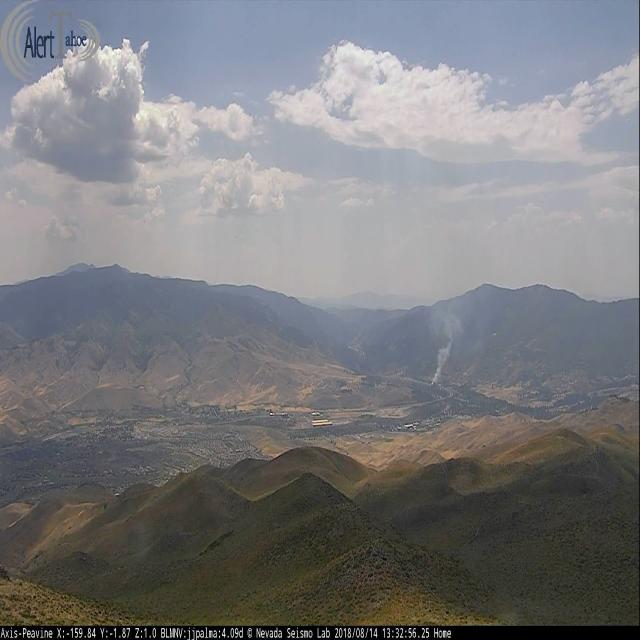smoke: (429, 304, 462, 383)
